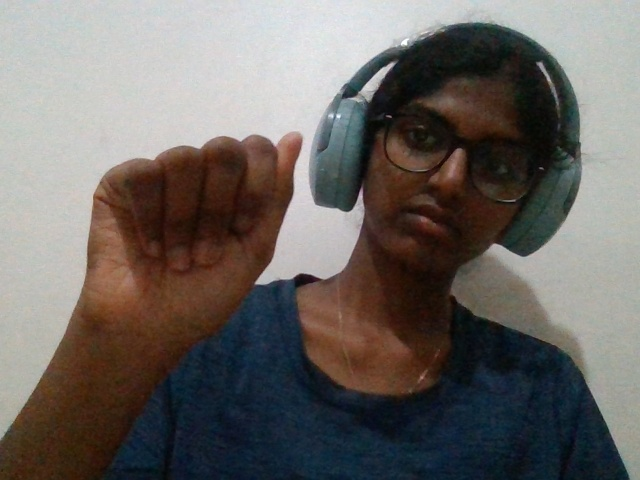A: (39, 118, 309, 406)
